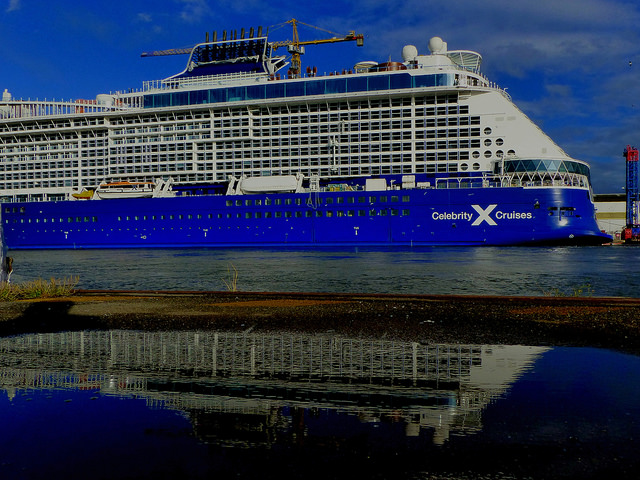cruise_ship: (6, 23, 614, 249)
